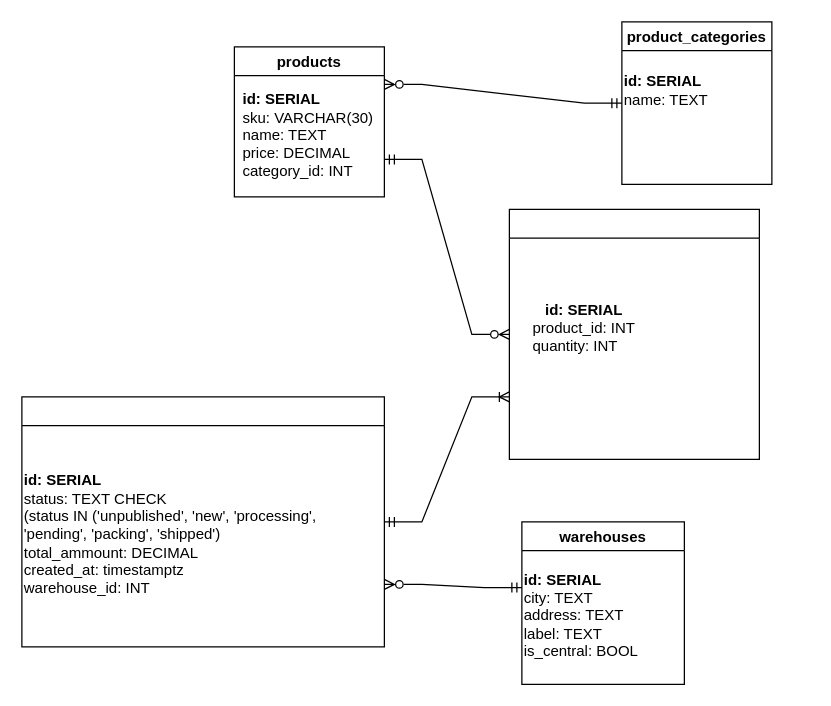
The diagram is 831 pixels wide and 706 high, and some of its shapes have lost their labels. Here are the shapes that lost their labels. From the top down, the box of each, then its label:
(508, 208, 759, 459): order_items
(21, 396, 384, 647): orders
